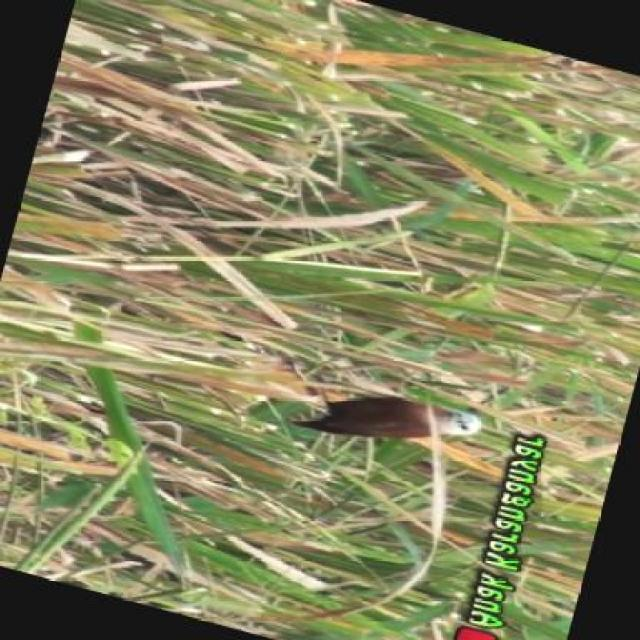Bird: (304, 372, 480, 458)
